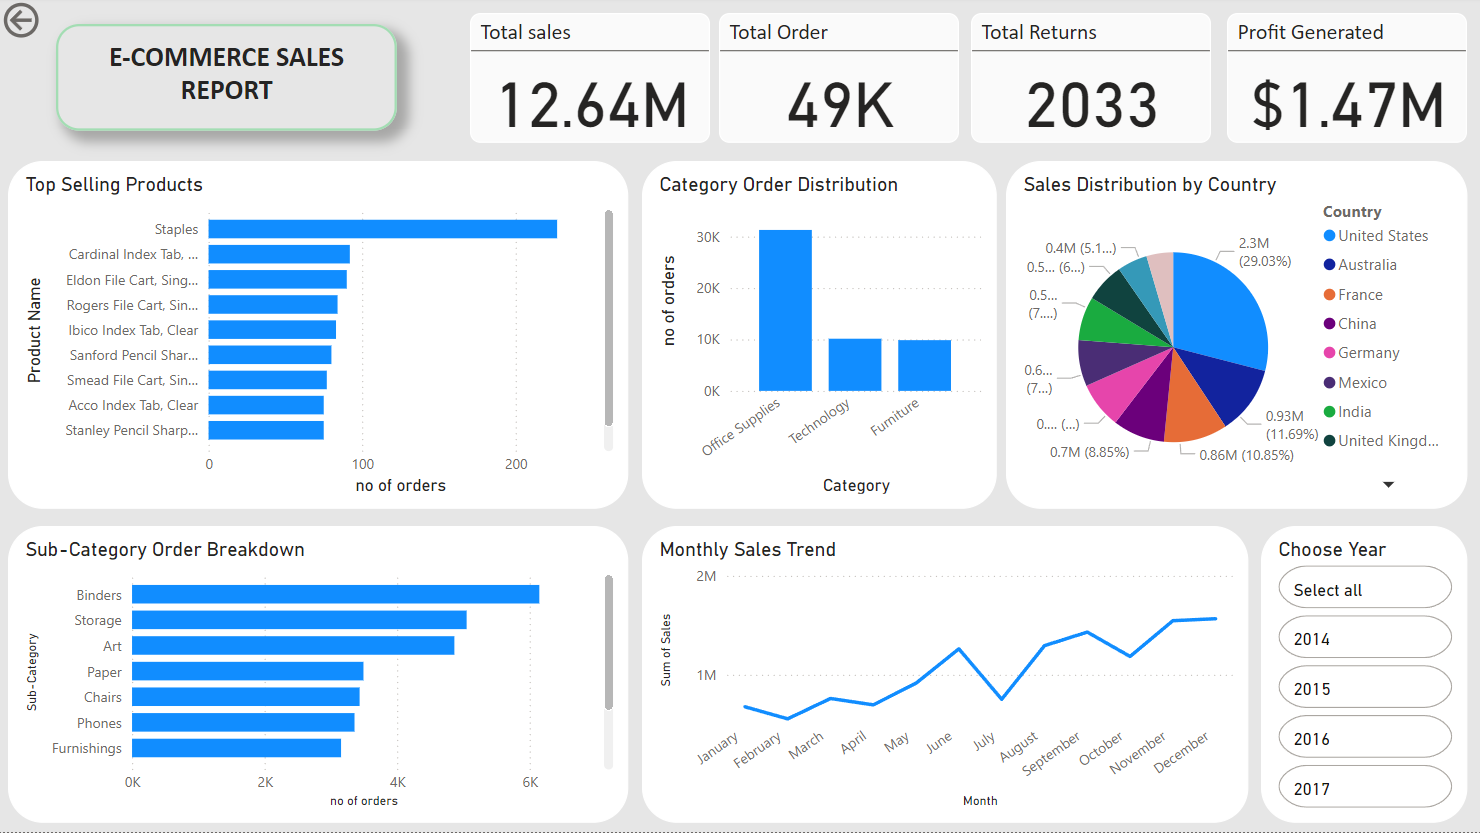

This screenshot's page, from the dashboard's own definition file:
{"tool":"powerbi","page":{"name":"Overview","canvas":[1280,720],"ordinal":0},"visuals":[{"type":"actionButton","box":[0,0,100,40],"z":0},{"type":"card","title":"Total sales","fields":{"Values":["Sum(Orders.Sales)"]},"box":[407.1,13.8,207,112.1],"z":1000},{"type":"card","title":"Total Order","fields":{"Values":["Orders.Count of Order ID minus Count of Returned"]},"box":[621.9,13.8,207,112.1],"z":2000},{"type":"card","title":"Total Returns","fields":{"Values":["CountNonNull(Returns.Order ID)"]},"box":[839.2,13.8,207,112.1],"z":3000},{"type":"card","title":"Profit Generated ","fields":{"Values":["Sum(Orders.Profit)"]},"box":[1060.1,13.8,207,112.1],"z":4000},{"type":"clusteredBarChart","title":"Top Selling Products","fields":{"Category":["Orders.Product Name"],"Y":["Orders.no of orders"]},"box":[8.7,141.5,535.1,300.3],"z":5000},{"type":"clusteredBarChart","title":"Sub-Category Order Breakdown","fields":{"Category":["Orders.Sub-Category"],"Y":["Orders.no of orders"]},"box":[8.7,456.2,535.1,256],"z":6000},{"type":"clusteredColumnChart","title":"Category Order Distribution","fields":{"Category":["Orders.Category"],"Y":["Orders.no of orders"]},"box":[555.3,141.5,306,300.3],"z":7000},{"type":"lineChart","title":"Monthly Sales Trend","fields":{"Category":["Orders.Order Date.Variation.Date Hierarchy.Month"],"Y":["Sum(Orders.Sales)"]},"box":[555.3,456.2,522.6,256],"z":8000},{"type":"advancedSlicerVisual","title":"Choose Year","fields":{"Values":["Orders.YearFromOrderDate"]},"box":[1089.4,456.2,178,256],"z":9000},{"type":"pieChart","title":"Sales Distribution by Country","fields":{"Category":["Orders.Country"],"Y":["Sum(Orders.Sales)"]},"box":[869.1,141.5,398.4,300.3],"z":10000},{"type":"textbox","box":[50,23.3,294.1,92.3],"z":10001}]}

Visuals, with their boxes in screenshot pixels (x1, y1, x2, y2), scaled from the page's 1280x720 canvas onto the 1480x833 screenshot:
actionButton: bbox=[0, 0, 116, 46]
"Total sales" card: bbox=[471, 16, 710, 146]
"Total Order" card: bbox=[719, 16, 958, 146]
"Total Returns" card: bbox=[970, 16, 1210, 146]
"Profit Generated " card: bbox=[1226, 16, 1465, 146]
"Top Selling Products" clusteredBarChart: bbox=[10, 164, 629, 511]
"Sub-Category Order Breakdown" clusteredBarChart: bbox=[10, 528, 629, 824]
"Category Order Distribution" clusteredColumnChart: bbox=[642, 164, 996, 511]
"Monthly Sales Trend" lineChart: bbox=[642, 528, 1246, 824]
"Choose Year" advancedSlicerVisual: bbox=[1260, 528, 1465, 824]
"Sales Distribution by Country" pieChart: bbox=[1005, 164, 1466, 511]
textbox: bbox=[58, 27, 398, 134]
